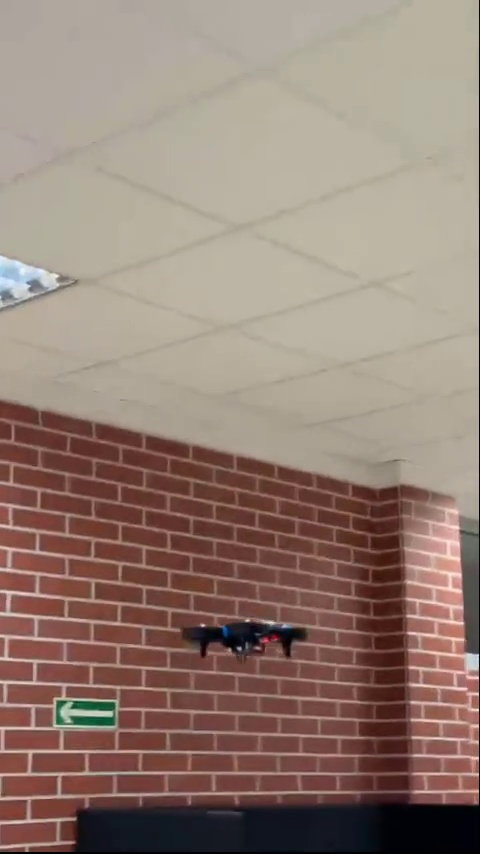drone: (186, 620, 316, 662)
